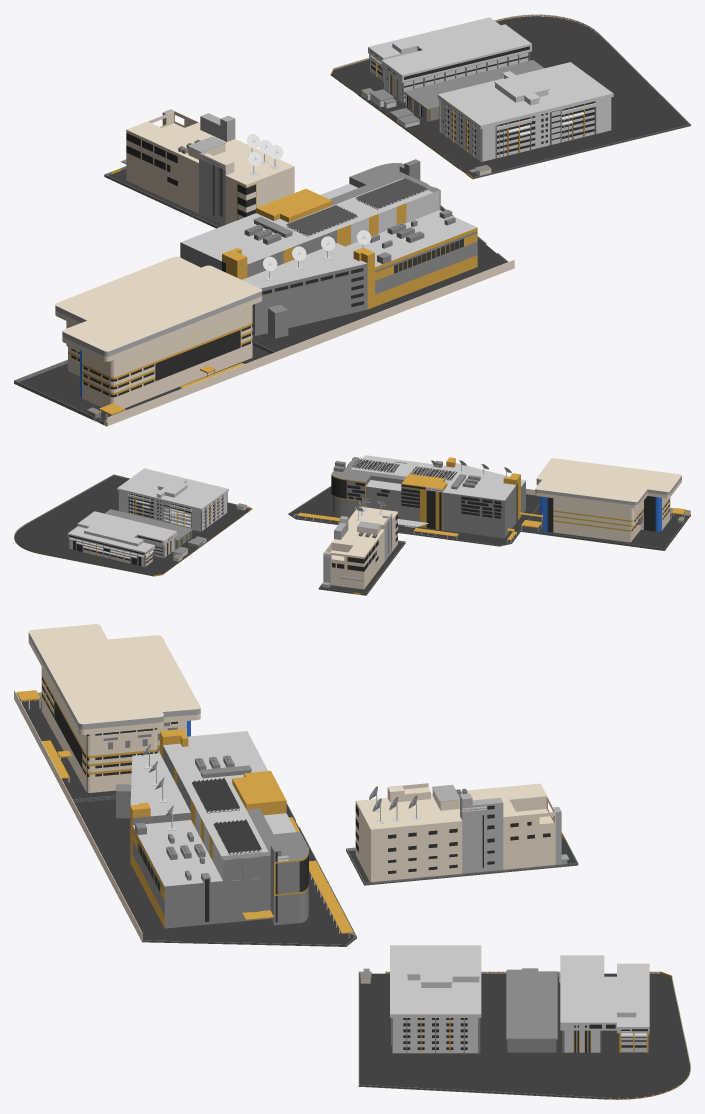
File: STEngAMK.glb
3 renders of one model, top to bottom at view 1: azimuth 30°, elevation 25°; view 2: azimuth 150°, elevation 25°; view 3: azimuth 270°, elevation 25°, orthographic. The views are drawn at different scales.
Parts seen in each view (by area): view 1: Digital Hub.001, Digital Hub, Floor.001, Building D, Satellite Systems, Building B, Perimeter.022, Floor, Perimeter.018, Building C, Solar panels, Old Building Perimeter (+4 smaller); view 2: Digital Hub.001, Digital Hub, Floor.001, Building D, Satellite Systems, Floor, Building A, Perimeter.022, Building B, Building A to B connect, Building C, Solar panel stand (+7 smaller); view 3: Digital Hub.001, Floor.001, Digital Hub, Satellite Systems, Building D, Floor, Building B, Building C, Perimeter.022, Solar panels, Building A, Building A to B connect (+5 smaller).
Part boxes in pixels (x1,y1,x2,y2): Digital Hub.001: (180,159,477,335); Digital Hub: (55,256,262,408); Floor.001: (332,16,688,178); Building D: (437,62,613,162); Satellite Systems: (126,111,294,225); Building B: (381,28,531,102); Perimeter.022: (14,346,281,426); Floor: (252,207,506,353); Perimeter.018: (281,260,514,358); Building C: (403,60,543,120); Solar panels: (287,178,426,235); Old Building Perimeter: (330,14,690,179); Digital Hub.001: (331,455,525,538); Digital Hub: (535,458,681,542); Floor.001: (14,475,250,575); Building D: (117,468,228,531); Satellite Systems: (324,506,397,589); Floor: (289,487,540,546); Building A: (67,526,154,567); Perimeter.022: (521,506,690,550); Building B: (81,511,176,558); Building A to B connect: (77,521,143,546); Building C: (105,509,192,547); Solar panel stand: (352,459,456,480); Digital Hub.001: (130,729,308,928); Floor.001: (359,973,690,1099); Digital Hub: (28,624,200,792); Satellite Systems: (355,783,555,883); Building D: (390,945,481,1053); Floor: (74,799,354,946); Building B: (560,955,604,1052); Building C: (506,971,557,1052); Perimeter.022: (14,690,115,802); Solar panels: (192,778,261,853); Building A: (617,963,649,1052); Building A to B connect: (604,968,636,1030).
Size of the model in its own units: 492 by 42.52 by 340.
Materials: 18 (8 with a texture image).
